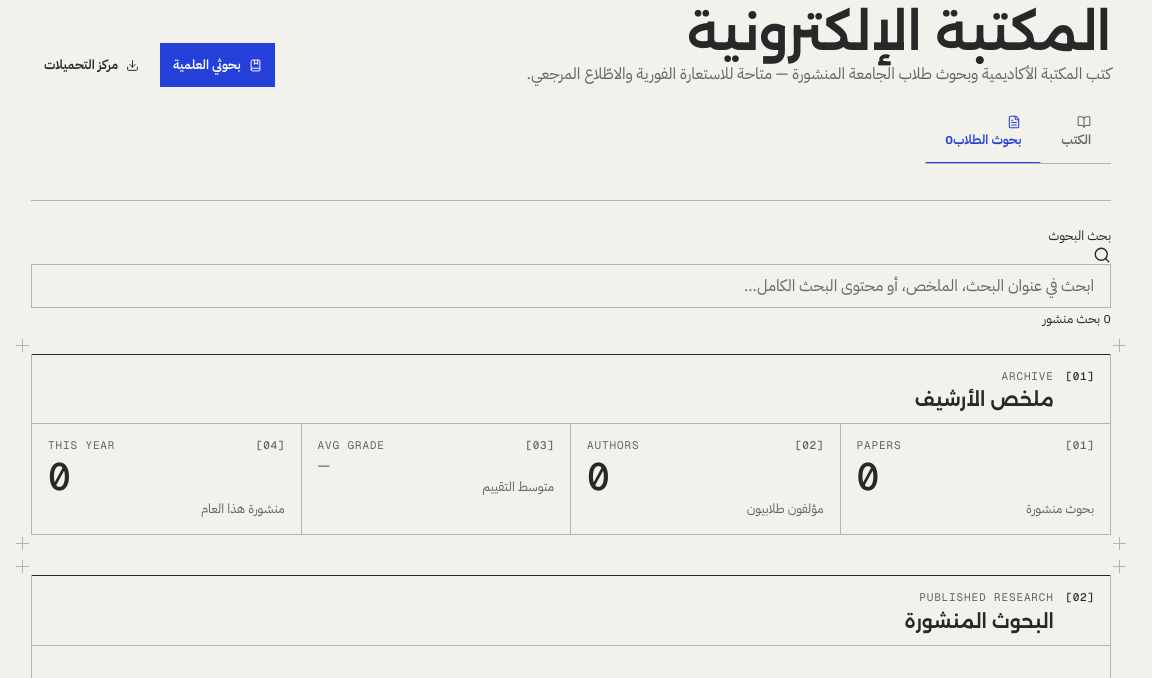
Test: LibraryPage — research empty honesty (R305-A7 regression) › a resolved empty search answers «لا توجد نتائج للبحث» quoting the SEARCHED term
In the field with placeholder "ابحث في عنوان البحث، الملخص، أو محتوى البحث الكامل…": (571, 286) [31,264,1111,308], type "شبكات"
Wait 250 ms
(page scrolled)
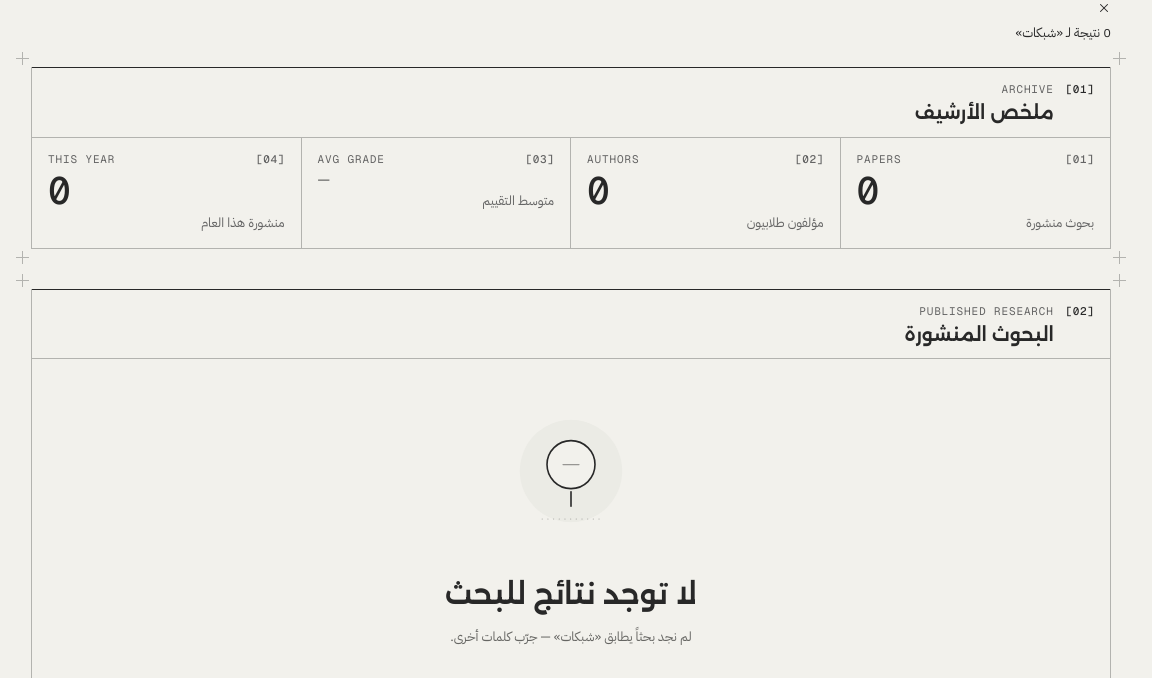
Now the text "لا توجد نتائج للبحث" is shown, box [445,571,697,618]
Now the text "لم نجد بحثاً يطابق «شبكات» — جرّب كلمات أخرى." is shown, box [450,626,692,648]
